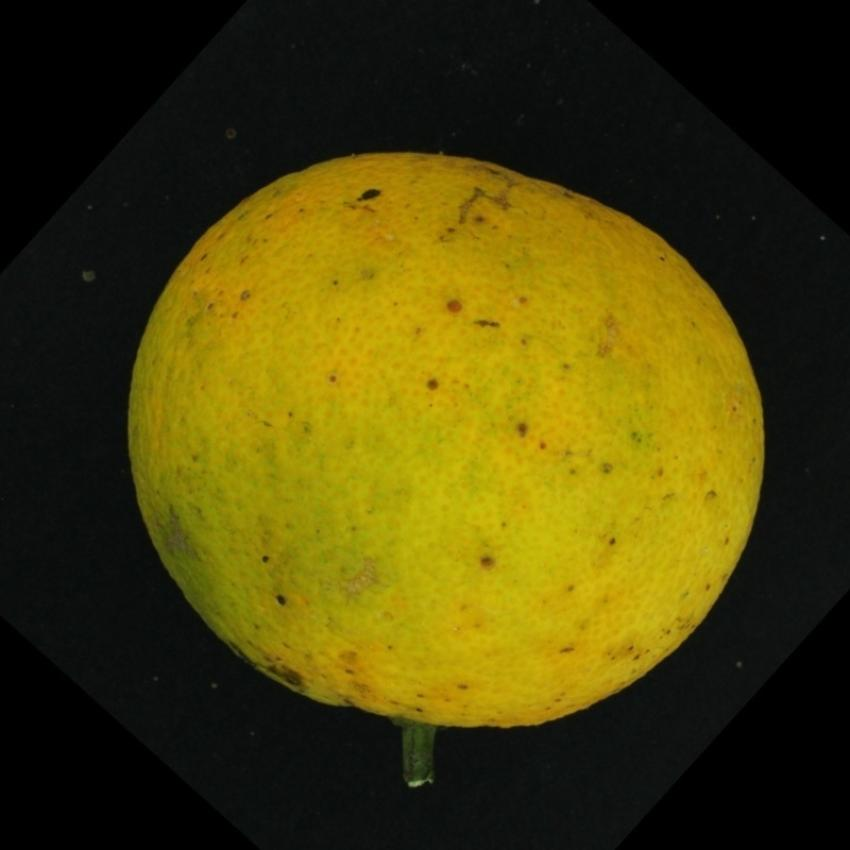Mal estado: (116, 116, 771, 745)
